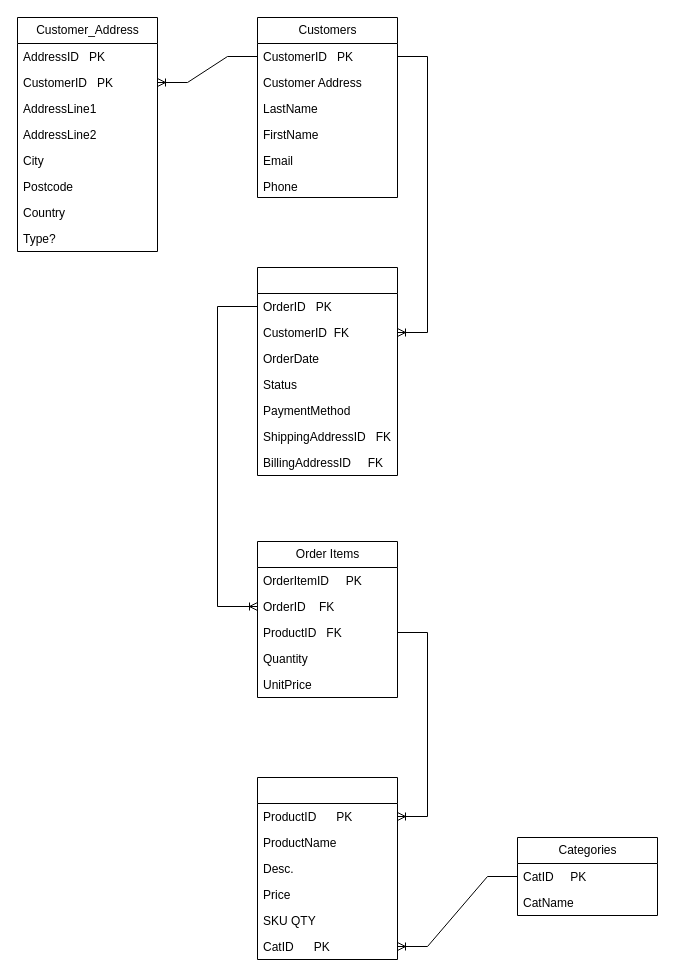
The diagram is 675 pixels wide and 980 high, and some of its shapes have lost their labels. Each missing label, with the box of its shape:
Orders: (256, 266, 398, 476)
Products: (256, 776, 398, 960)
